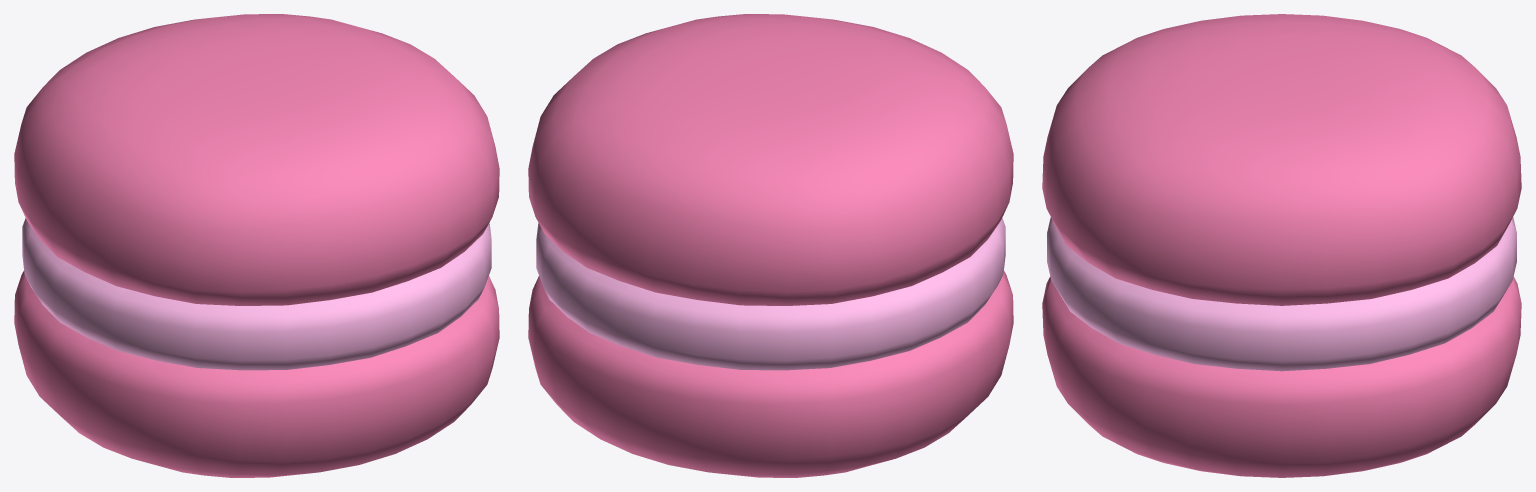
Rendered from Macaroon_03.fbx.
The picture shows the model from 3 angles, left to right: view 1: azimuth 30°, elevation 25°; view 2: azimuth 150°, elevation 25°; view 3: azimuth 270°, elevation 25°; orthographic projection.
Visible parts, largest first — view 1: Macaroon_03_LOD0; view 2: Macaroon_03_LOD0; view 3: Macaroon_03_LOD0.
Boxes of the visible parts, x1,y1,x2,y2 form: Macaroon_03_LOD0: (14, 14, 499, 477); Macaroon_03_LOD0: (528, 14, 1013, 477); Macaroon_03_LOD0: (1042, 14, 1521, 477).
Size of what is drawn, in the model's own units: 348 by 276 by 348.
